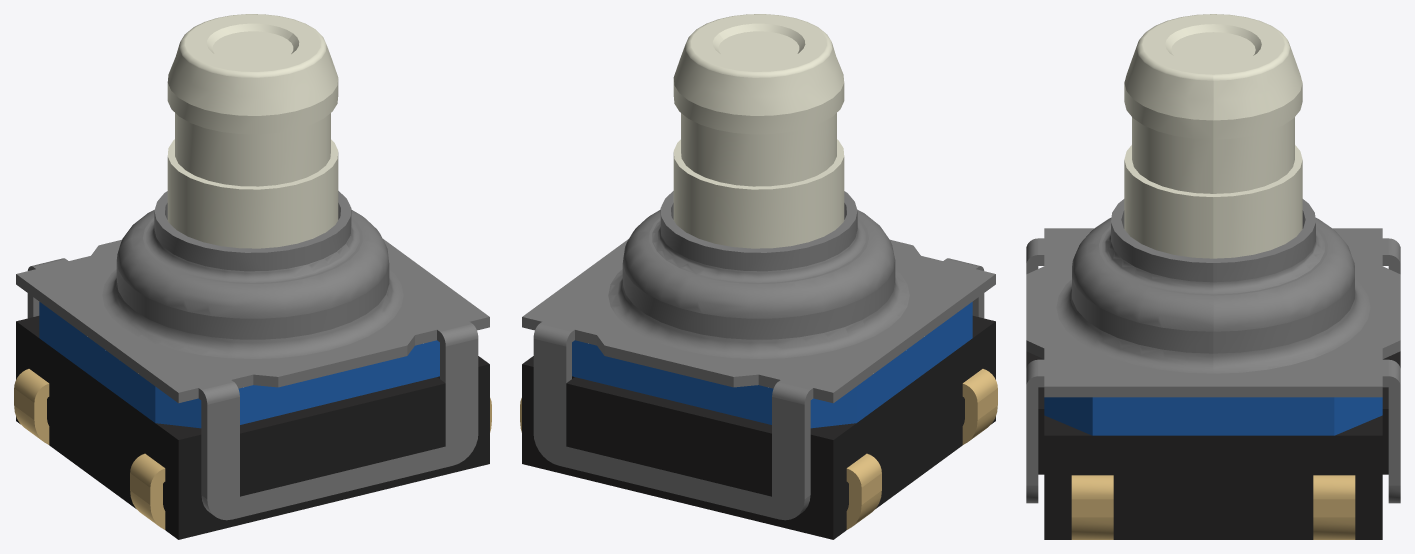
The model's file is kc-sw_push_1p1t_no_ck_ksc9xxj.glb.
3 renders of one model, left to right at view 1: azimuth 30°, elevation 25°; view 2: azimuth 150°, elevation 25°; view 3: azimuth 270°, elevation 25°, orthographic. The views are drawn at different scales.
Visible parts, largest first — view 1: 0.25_0.25_0.25_0, 0.75_0.75_0.6666666666666666_0, 0_0_0_0, 0_0.16666666666666666_0.5_0, 0.75_0.5_0.25_0.9; view 2: 0.25_0.25_0.25_0, 0.75_0.75_0.6666666666666666_0, 0_0_0_0, 0_0.16666666666666666_0.5_0, 0.75_0.5_0.25_0.9; view 3: 0.25_0.25_0.25_0, 0.75_0.75_0.6666666666666666_0, 0_0_0_0, 0_0.16666666666666666_0.5_0, 0.75_0.5_0.25_0.9.
Part boxes in pixels (x1,y1,x2,y2): 0.25_0.25_0.25_0: (16, 191, 489, 520); 0.75_0.75_0.6666666666666666_0: (167, 14, 338, 248); 0_0_0_0: (16, 316, 489, 539); 0_0.16666666666666666_0.5_0: (39, 302, 439, 428); 0.75_0.5_0.25_0.9: (14, 369, 491, 529); 0.25_0.25_0.25_0: (522, 191, 995, 520); 0.75_0.75_0.6666666666666666_0: (673, 14, 844, 248); 0_0_0_0: (522, 316, 995, 539); 0_0.16666666666666666_0.5_0: (572, 302, 972, 428); 0.75_0.5_0.25_0.9: (520, 369, 997, 529); 0.25_0.25_0.25_0: (1026, 199, 1400, 503); 0.75_0.75_0.6666666666666666_0: (1124, 14, 1302, 258); 0_0_0_0: (1026, 351, 1400, 539); 0_0.16666666666666666_0.5_0: (1044, 397, 1382, 435); 0.75_0.5_0.25_0.9: (1071, 475, 1355, 539).
Size of the model in its own units: 0.68 by 0.77 by 0.62.
